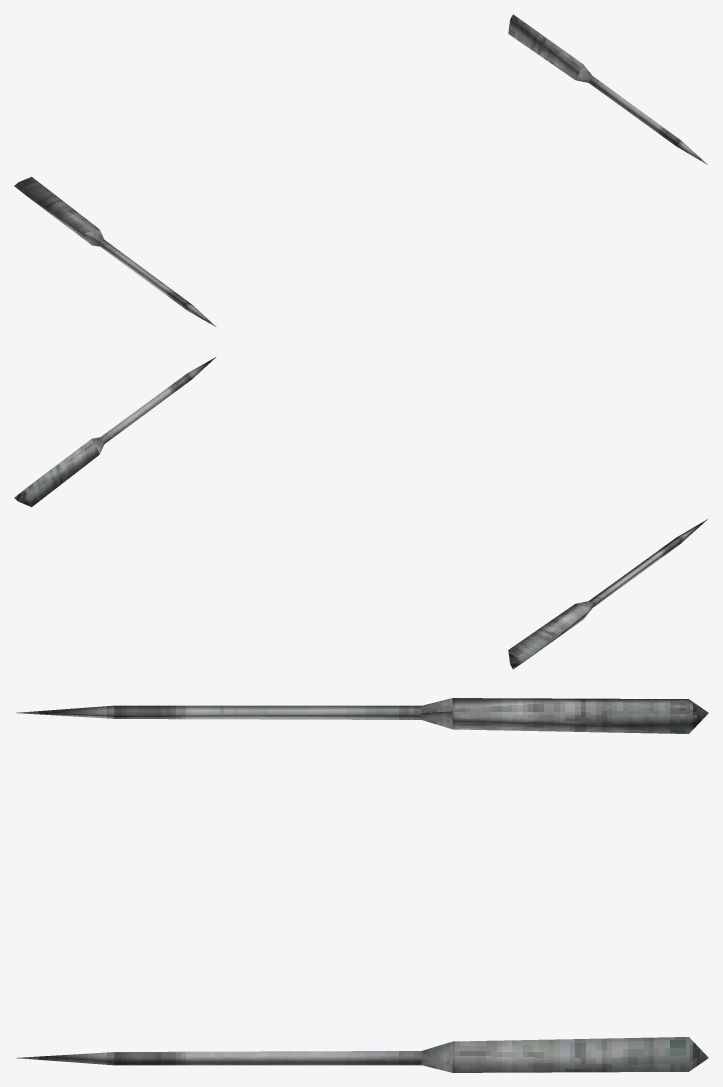
File: xwing_weapon1_neg_s05_l3.fbx
The picture shows the model from 3 angles, top to bottom: view 1: azimuth 30°, elevation 25°; view 2: azimuth 150°, elevation 25°; view 3: azimuth 270°, elevation 25°; orthographic projection. The views are drawn at different scales.
Visible parts, largest first — view 1: mesh_node; view 2: mesh_node; view 3: mesh_node.
Boxes of the visible parts, x1,y1,x2,y2 form: mesh_node: (14, 14, 707, 326); mesh_node: (14, 357, 707, 669); mesh_node: (16, 698, 708, 1072).
Size of the model in its own units: 12.96 by 1.54 by 8.72.
1 material, 1 textured.
